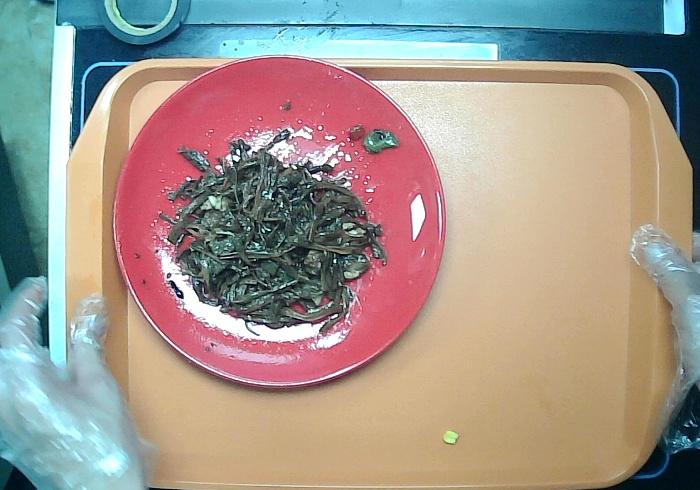HZYJPL-Hong_Se_Yuan_Pan: (110, 53, 449, 392)
